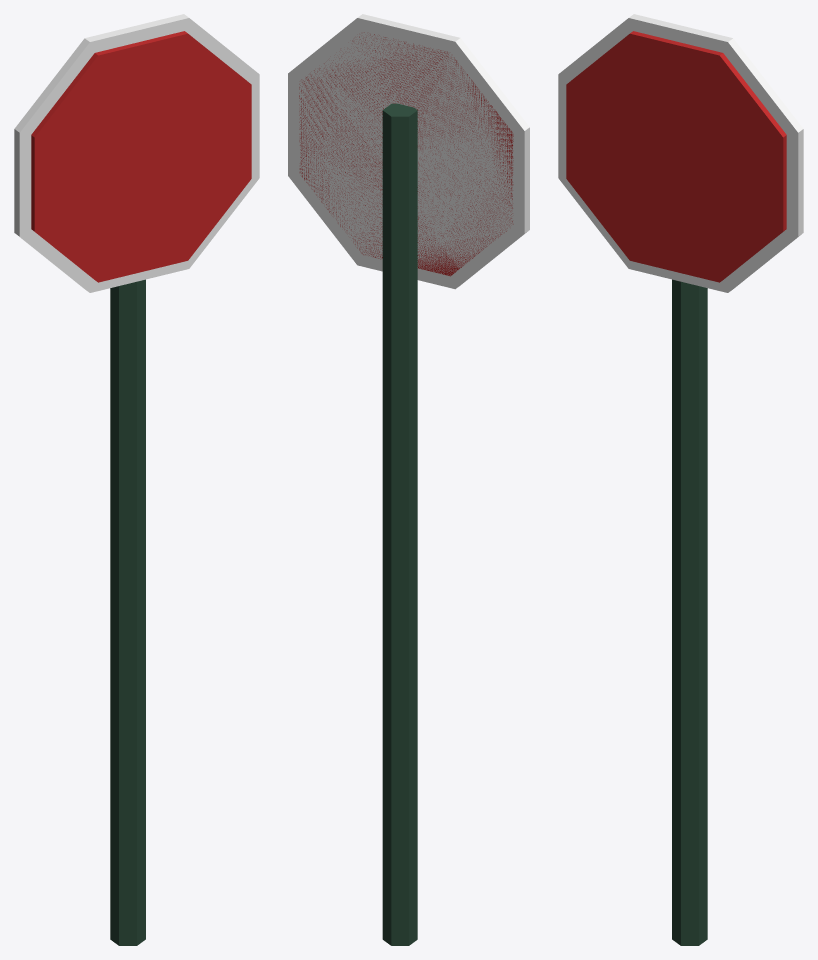
Rendered from town_stop.glb.
3 views of the same model, side by side, from view 1: azimuth 30°, elevation 25°; view 2: azimuth 150°, elevation 25°; view 3: azimuth 330°, elevation 25° (orthographic).
Visible parts, largest first — view 1: TownStop_body; view 2: TownStop_body; view 3: TownStop_body.
Boxes of the visible parts, <box> form: TownStop_body: <box>14,14,259,945</box>; TownStop_body: <box>288,14,529,945</box>; TownStop_body: <box>558,14,803,945</box>.
Size of the model in its own units: 0.7761 by 2.84 by 0.135.
